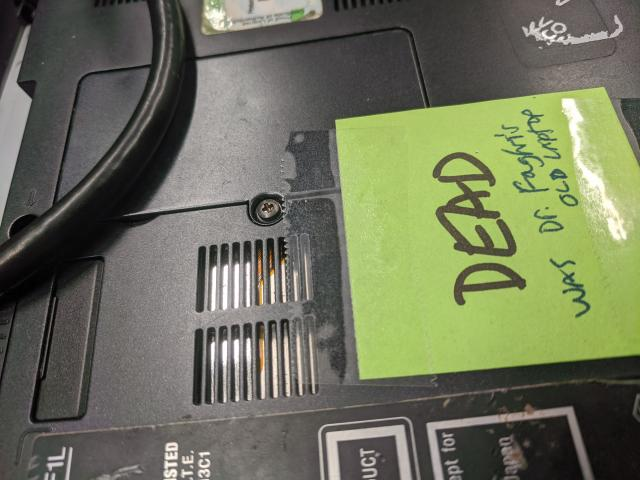CRS: (256, 199, 283, 222)
